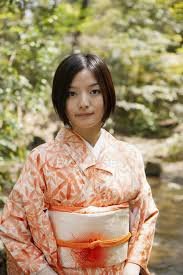person: (52, 55, 116, 134)
